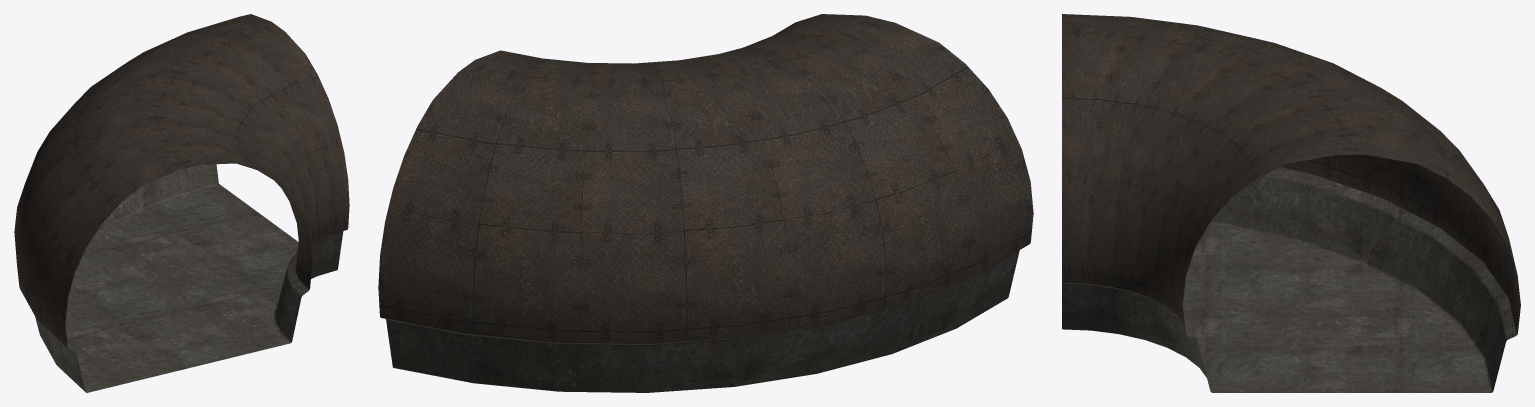
The model's file is tunnel_ancle.fbx.
3 views of the same model, side by side, from view 1: azimuth 30°, elevation 25°; view 2: azimuth 150°, elevation 25°; view 3: azimuth 270°, elevation 25° (orthographic). The views are drawn at different scales.
Parts seen in each view (by area): view 1: tunnel_ancle; view 2: tunnel_ancle; view 3: tunnel_ancle.
Boxes of the visible parts, x1,y1,x2,y2 form: tunnel_ancle: [14, 14, 349, 392]; tunnel_ancle: [378, 14, 1033, 392]; tunnel_ancle: [1062, 14, 1520, 392].
Size of the model in its own units: 4.75 by 4.75 by 2.72.
